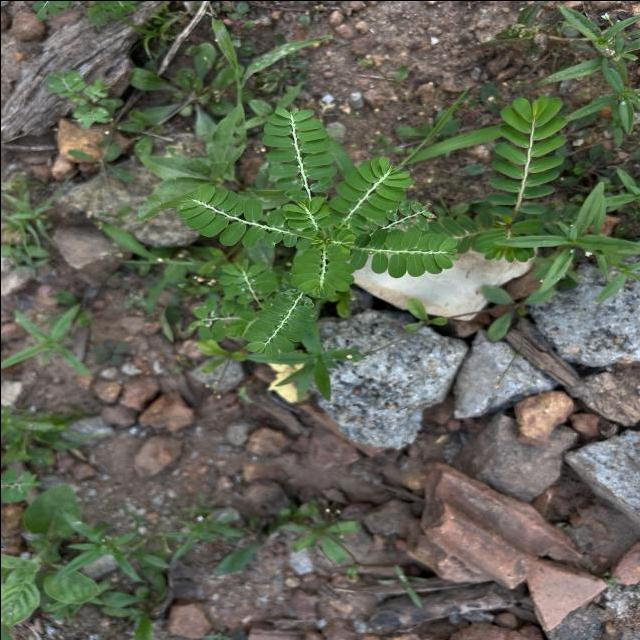Phyllanthus niruri: (486, 94, 570, 218), (172, 181, 293, 251), (259, 104, 335, 202), (328, 154, 413, 228), (349, 226, 460, 280), (243, 292, 316, 362), (286, 240, 356, 300)
